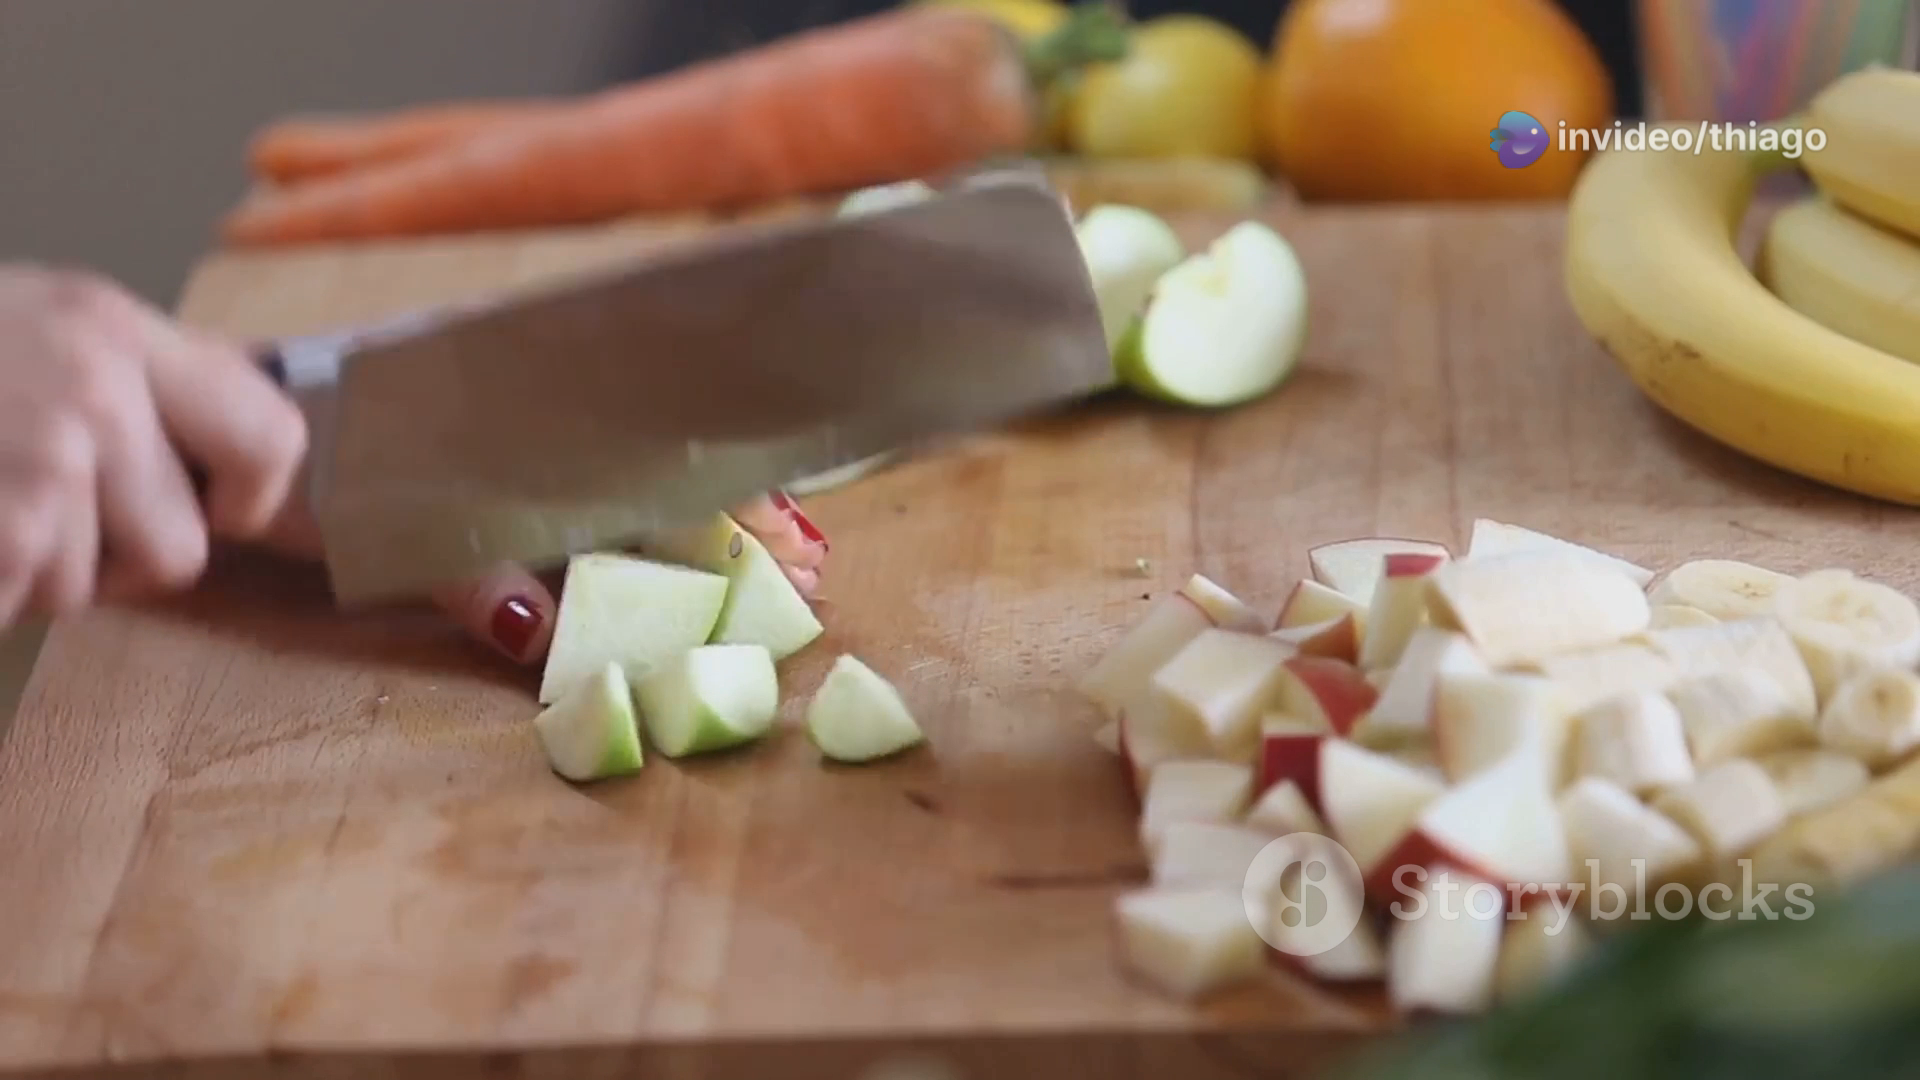cortante: (293, 177, 1120, 611)
